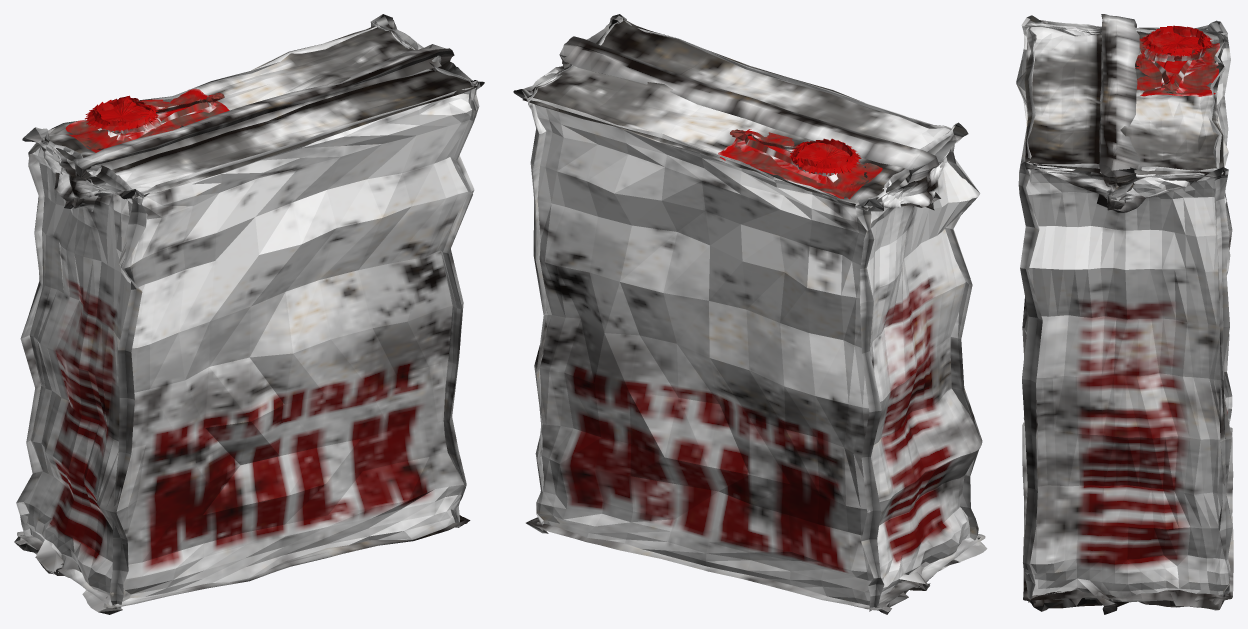
Rendered from crush_medium_1.obj.
3 views of the same model, side by side, from view 1: azimuth 30°, elevation 25°; view 2: azimuth 150°, elevation 25°; view 3: azimuth 270°, elevation 25° (orthographic). The views are drawn at different scales.
Parts seen in each view (by area): view 1: model; view 2: model; view 3: model.
Part boxes in pixels (x1,y1,x2,y2): model: [14, 14, 484, 614]; model: [513, 14, 987, 614]; model: [1016, 14, 1233, 614].
Size of the model in its own units: 0.0985 by 0.1094 by 0.0468.
Materials: 1 (1 with a texture image).
